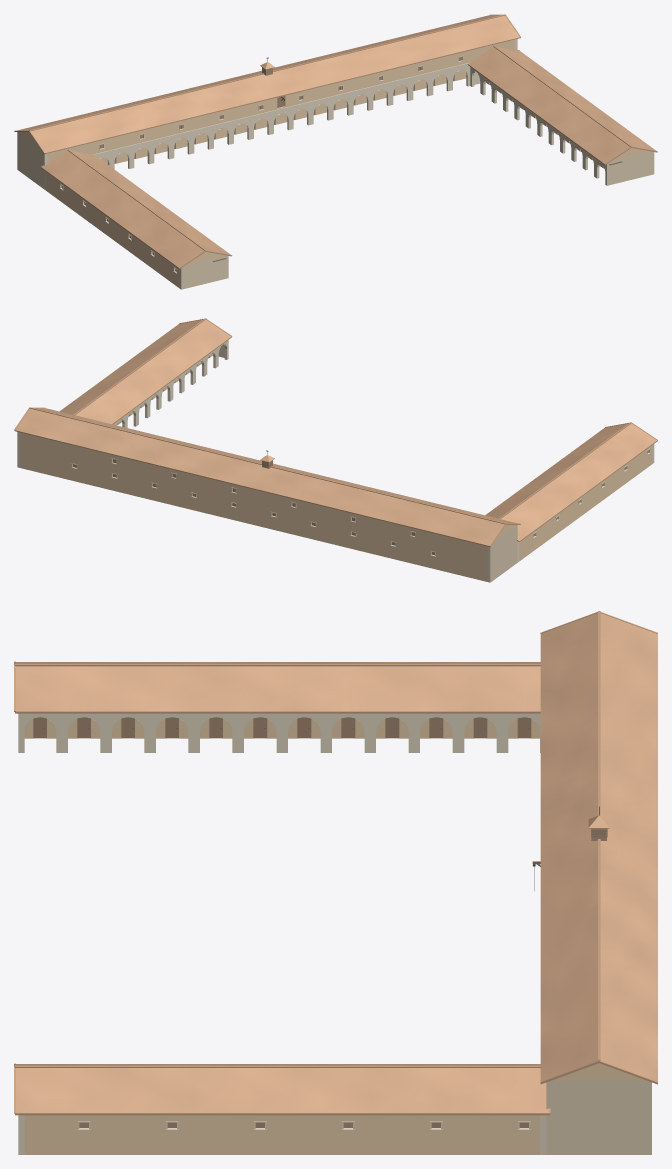
Rendered from SM_BM_BHip_Stables.glb.
3 views of the same model, one above another, from view 1: azimuth 30°, elevation 25°; view 2: azimuth 150°, elevation 25°; view 3: azimuth 270°, elevation 25° (orthographic). The views are drawn at different scales.
Parts seen in each view (by area): view 1: SM_BM_BHip_Stables; view 2: SM_BM_BHip_Stables; view 3: SM_BM_BHip_Stables.
Part boxes in pixels (<box>): SM_BM_BHip_Stables: <box>14,14,657,289</box>; SM_BM_BHip_Stables: <box>14,318,657,582</box>; SM_BM_BHip_Stables: <box>14,611,657,1154</box>.
Bounding box in the file's own units: 101 × 13.06 × 60.96.
